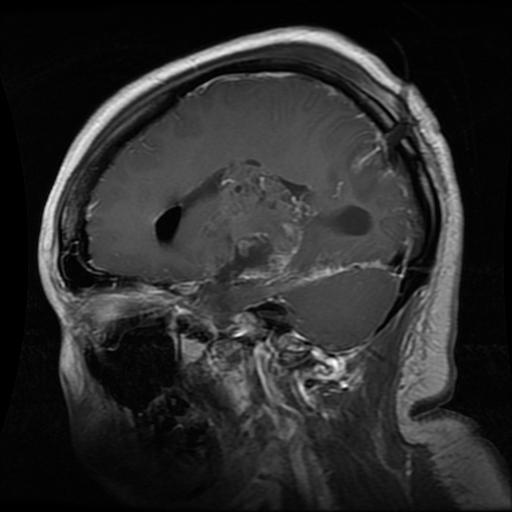Gliomia_tumour: (155, 158, 374, 284)
